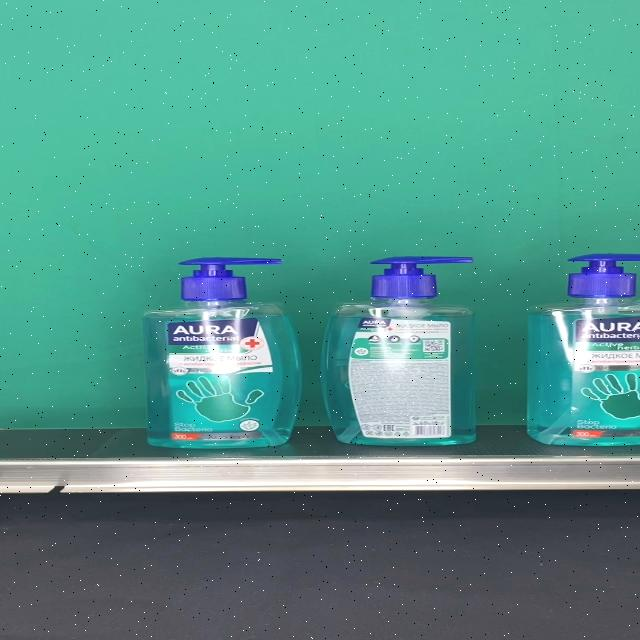Bottle: (141, 258, 302, 448), (322, 256, 478, 446), (525, 252, 640, 446)
Cap: (180, 258, 282, 300), (370, 256, 472, 298), (567, 253, 640, 297)
